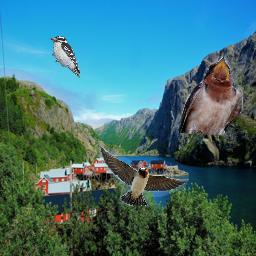Swallow: (99, 145, 189, 206), (179, 56, 243, 141)
Woodpecker: (49, 36, 80, 78)
